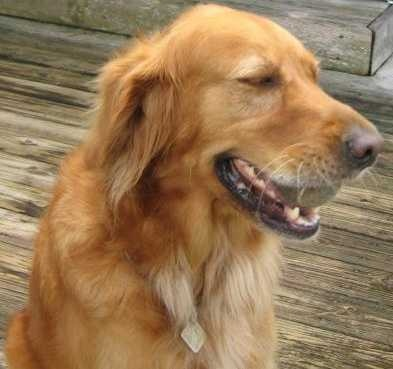Dog: (29, 4, 382, 343)
